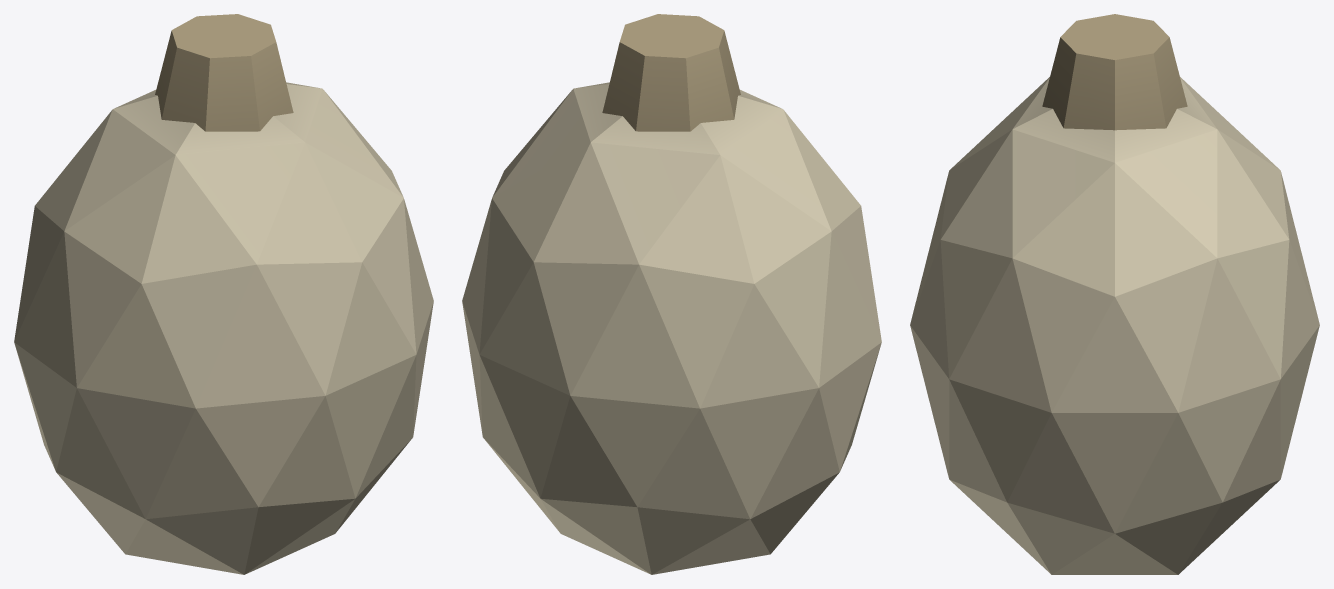
The model's file is flour_sack.glb.
3 views of the same model, side by side, from view 1: azimuth 30°, elevation 25°; view 2: azimuth 150°, elevation 25°; view 3: azimuth 270°, elevation 25° (orthographic).
Parts seen in each view (by area): view 1: flour_sack; view 2: flour_sack; view 3: flour_sack.
Part boxes in pixels (x1=…): flour_sack: x1=14, y1=14, x2=433, y2=574; flour_sack: x1=462, y1=14, x2=881, y2=574; flour_sack: x1=910, y1=14, x2=1319, y2=574.
Size of the model in its own units: 0.6087 by 0.865 by 0.6.
